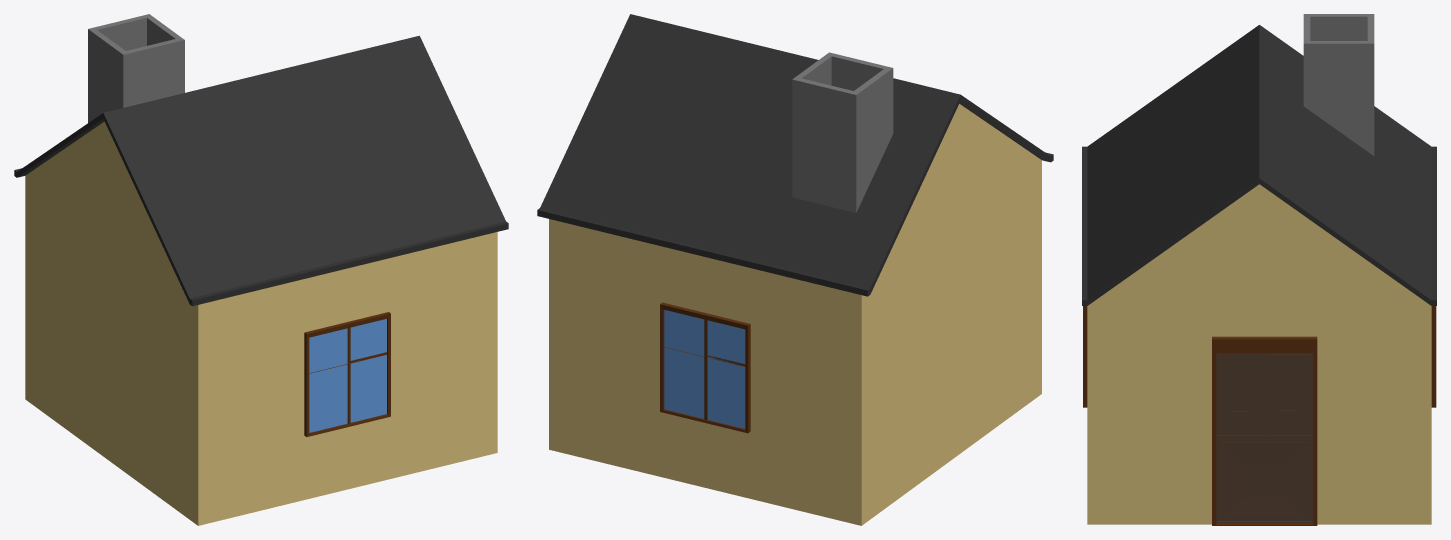
File: house1TS.fbx
3 views of the same model, side by side, from view 1: azimuth 30°, elevation 25°; view 2: azimuth 150°, elevation 25°; view 3: azimuth 270°, elevation 25° (orthographic). The views are drawn at different scales.
Visible parts, largest first — view 1: Cube, Cube.057, Cube.003; view 2: Cube, Cube.003, Cube.002; view 3: Cube, Cube.001, Cube.003, Cube.002, Cube.057.
Boxes of the visible parts, x1,y1,x2,y2 form: Cube: (14,35,508,525); Cube.057: (304,312,390,436); Cube.003: (88,14,184,122); Cube: (537,14,1053,525); Cube.003: (792,52,893,212); Cube.002: (660,302,750,433); Cube: (1082,25,1436,524); Cube.001: (1212,336,1317,525); Cube.003: (1303,14,1374,155); Cube.002: (1431,306,1436,407); Cube.057: (1083,306,1087,407).
Size of the model in its own units: 347 by 401 by 338.
